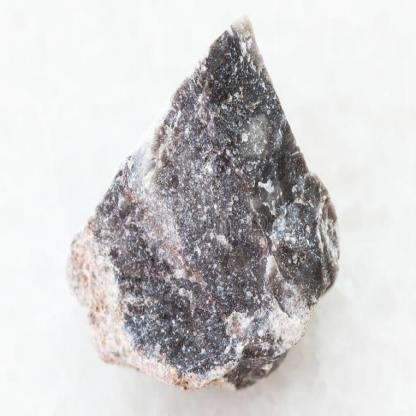Sedimentary_Limestone: (70, 9, 344, 382)
